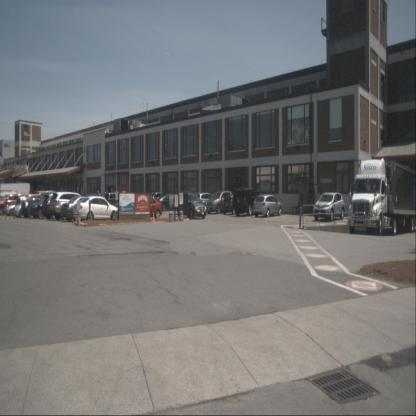cone: (152, 212, 155, 221)
